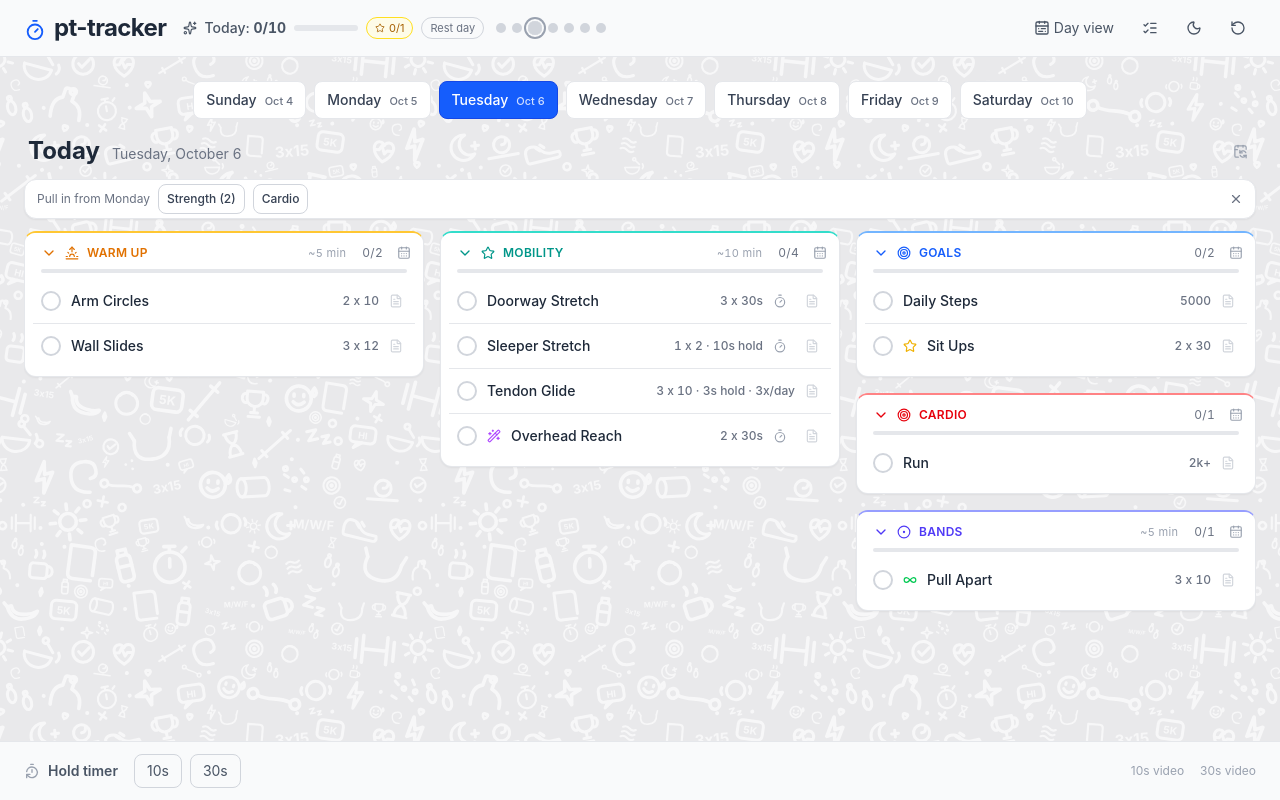
Test: moving one block › keeps checks with the block wherever it is shown
This screenshot has width=1280, height=800.
Click the button "Pull Apart 3 x 10". click: x=960, y=580
box: x1=873 y1=570 x2=1211 y2=590
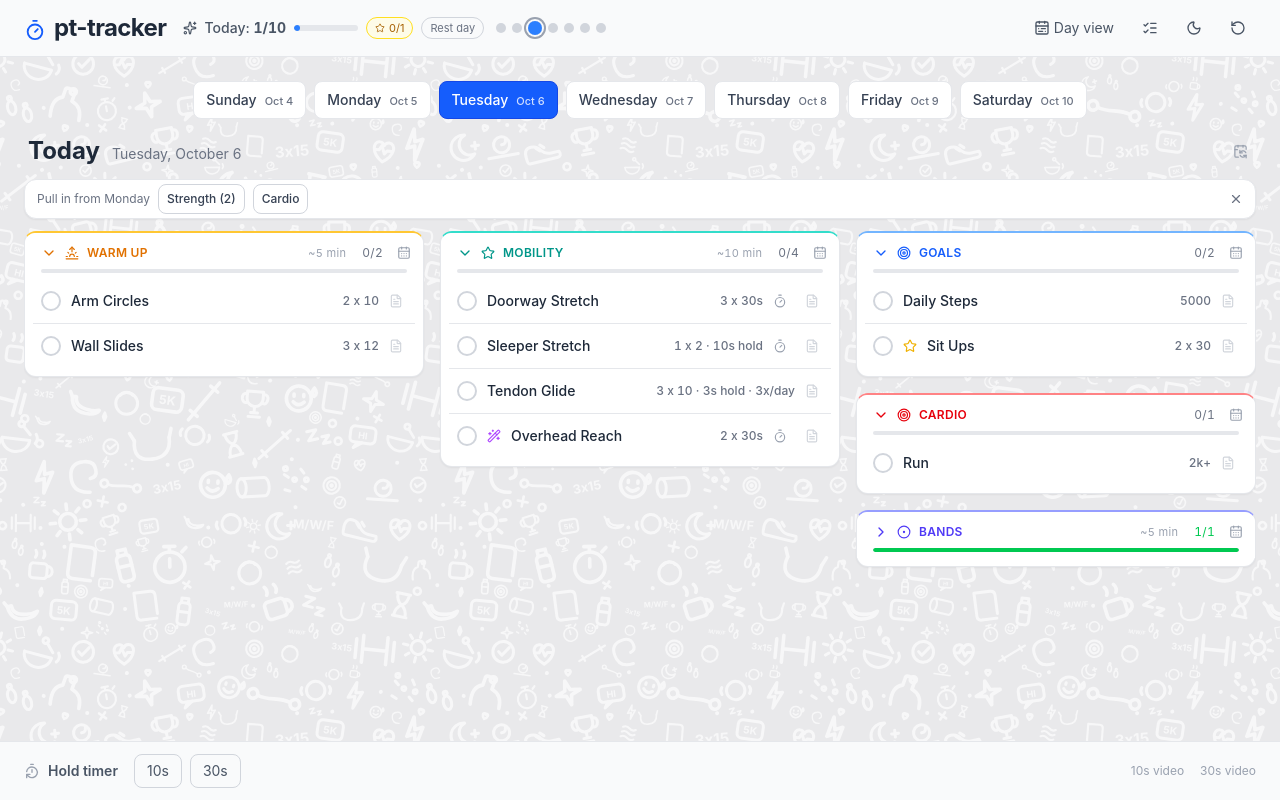
Click the button "Bands ~5 min 1/1". click: x=941, y=532
box: x1=865 y1=520 x2=1223 y2=544
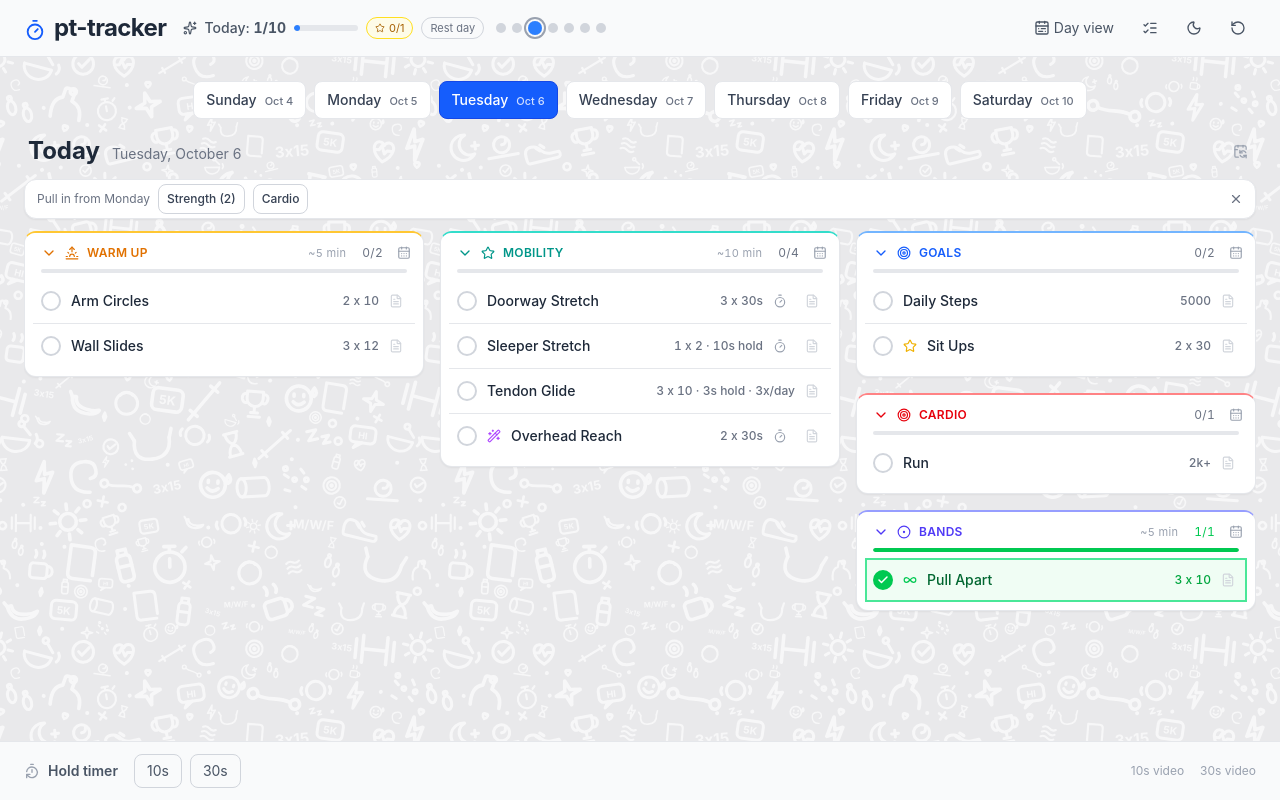
Click the button named "Move or skip Bands". click: x=1236, y=532
box: x1=1225 y1=521 x2=1247 y2=543
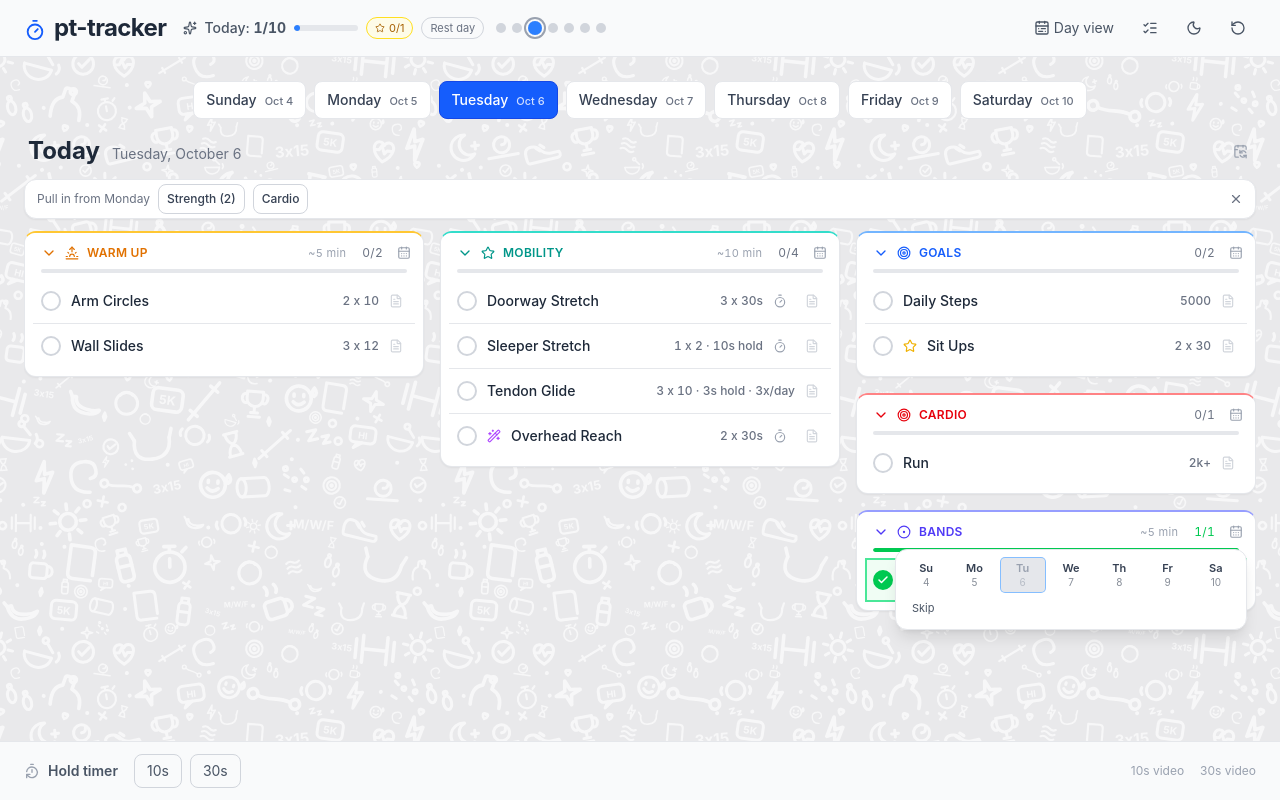
Click the button with aria-label "Move to Wednesday". click: x=1071, y=575
box: x1=1049 y1=558 x2=1093 y2=592
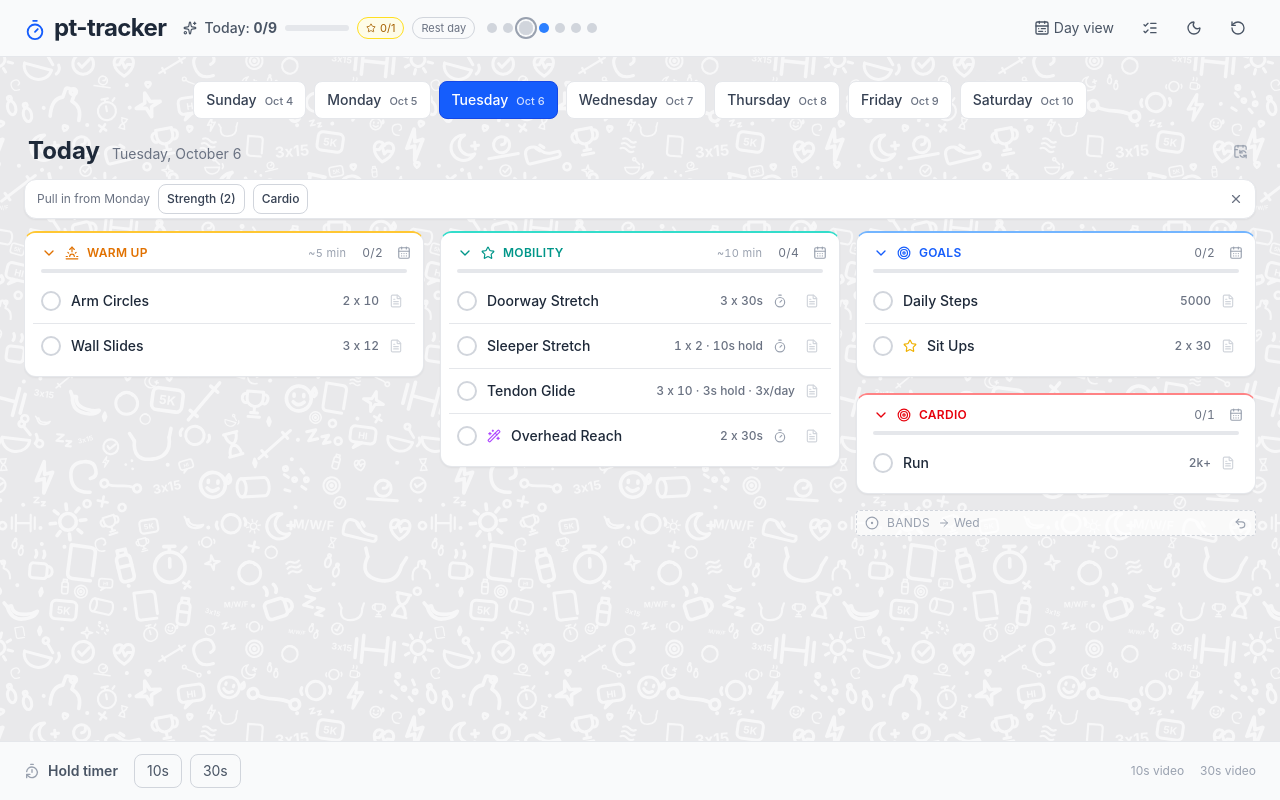
Click the button "Wednesday Oct 7". click: x=636, y=100
box: x1=566 y1=81 x2=706 y2=119
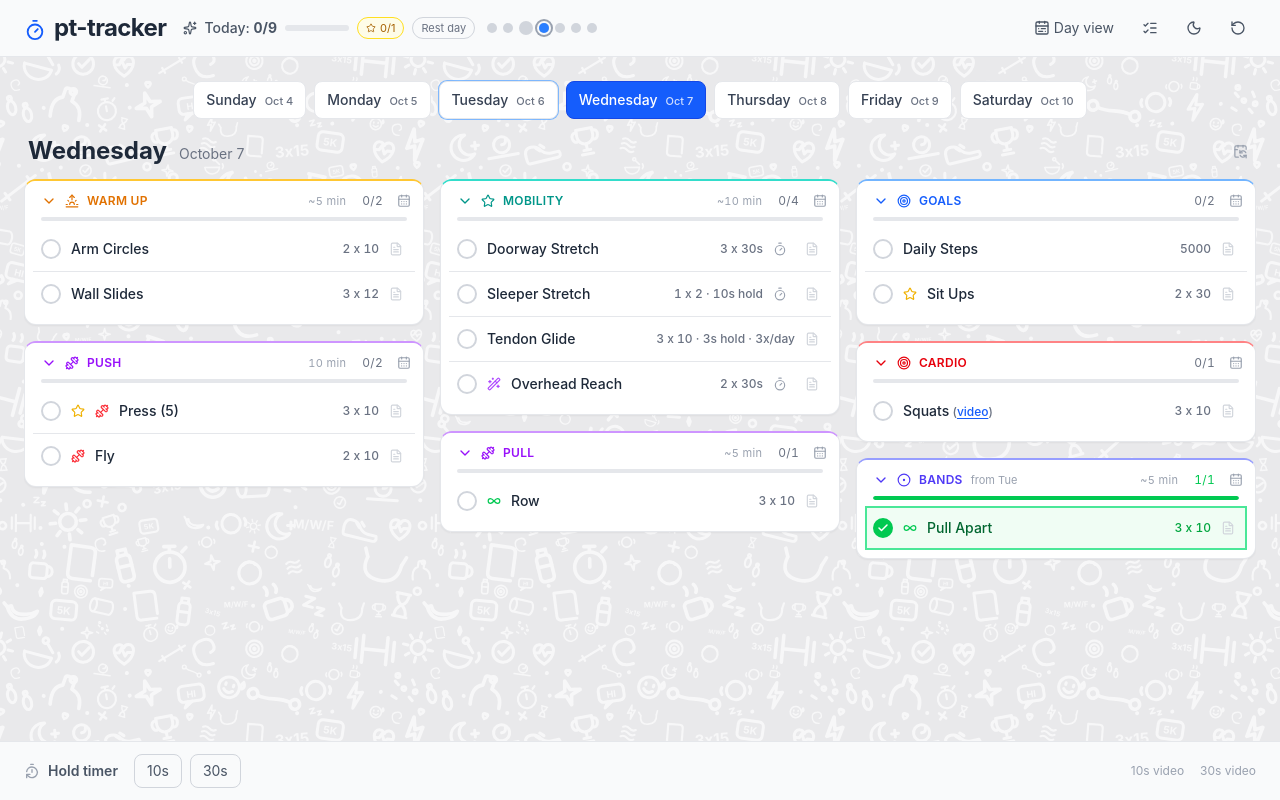
Expected: the button "Bands from Tue ~5 min 1/1" is shown, x1=865 y1=468 x2=1223 y2=492
